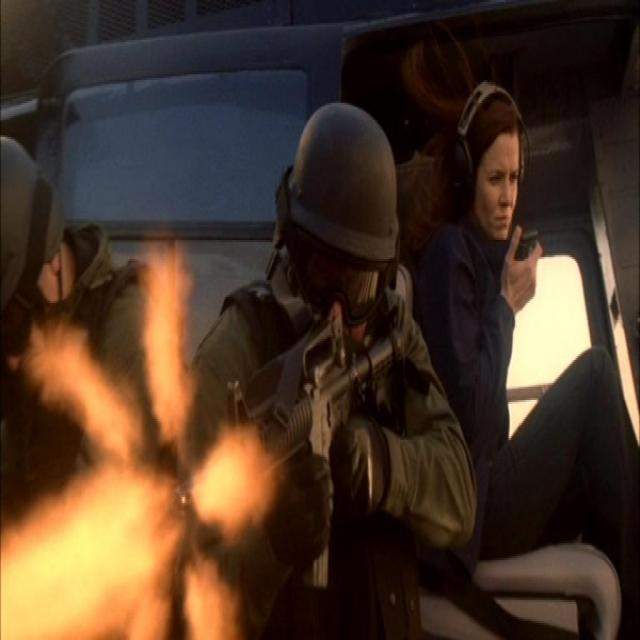rifle: (165, 292, 411, 589)
